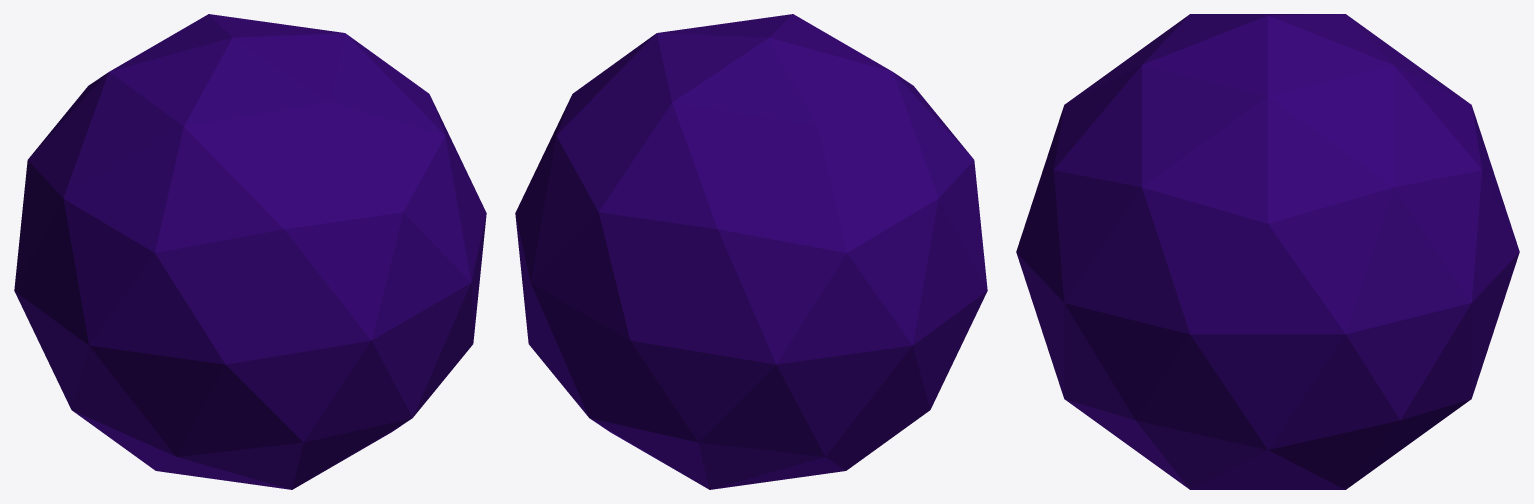
Rendered from grape2.obj.
3 views of the same model, side by side, from view 1: azimuth 30°, elevation 25°; view 2: azimuth 150°, elevation 25°; view 3: azimuth 270°, elevation 25° (orthographic). The views are drawn at different scales.
Parts seen in each view (by area): view 1: Object_0; view 2: Object_0; view 3: Object_0.
Boxes of the visible parts, bbox=[...] form: Object_0: bbox=[14, 14, 486, 489]; Object_0: bbox=[515, 14, 987, 489]; Object_0: bbox=[1016, 14, 1519, 489].
Bounding box in the file's own units: 0.0406 × 0.0427 × 0.0428.
